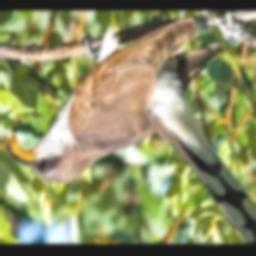Cuckoo: (4, 18, 256, 243)
